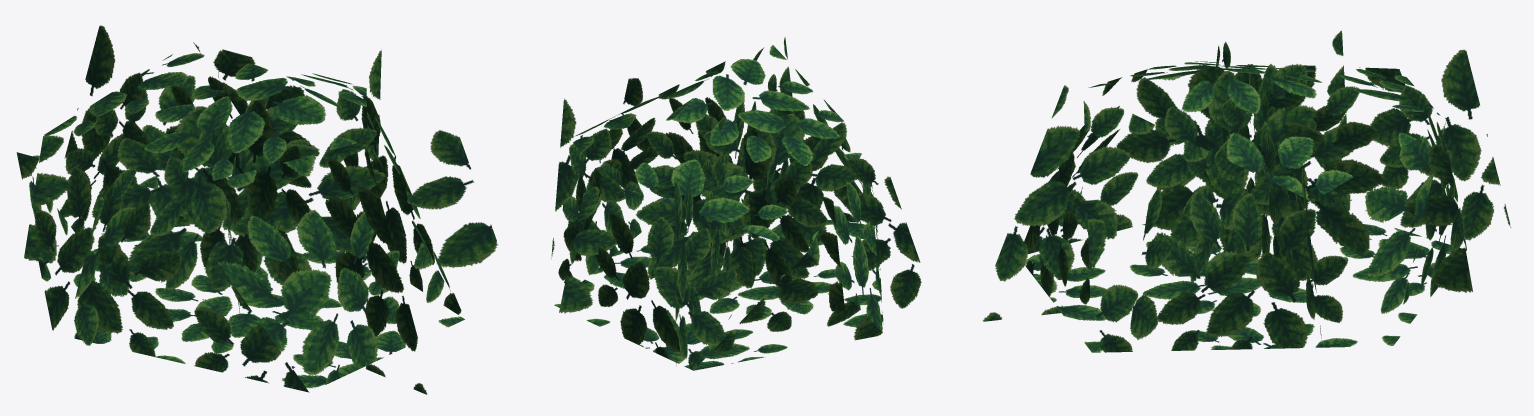
The model's file is bush.glb.
3 renders of one model, left to right at view 1: azimuth 30°, elevation 25°; view 2: azimuth 150°, elevation 25°; view 3: azimuth 270°, elevation 25°, orthographic. The views are drawn at different scales.
Parts seen in each view (by area): view 1: Icosphere; view 2: Icosphere; view 3: Icosphere.
Part boxes in pixels (<box>): Icosphere: <box>16,25,497,394</box>; Icosphere: <box>551,37,921,370</box>; Icosphere: <box>983,30,1511,352</box>.
Size of the model in its own units: 2.22 by 1.27 by 2.41.
1 material, 1 textured.
